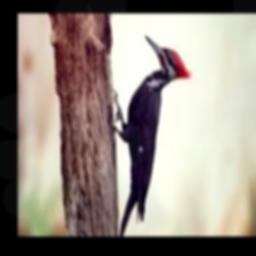Woodpecker: (111, 34, 190, 236)
